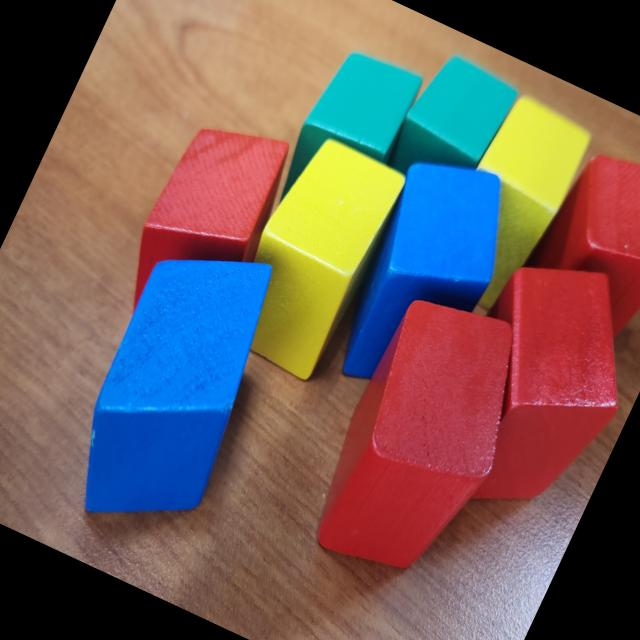blue: (46, 222, 304, 556), (314, 138, 534, 416)
green: (264, 39, 426, 242), (380, 48, 523, 208)
red: (292, 280, 549, 601), (412, 232, 640, 543), (105, 101, 307, 354), (509, 133, 640, 352)
yellow: (212, 127, 412, 386), (425, 90, 601, 322)
